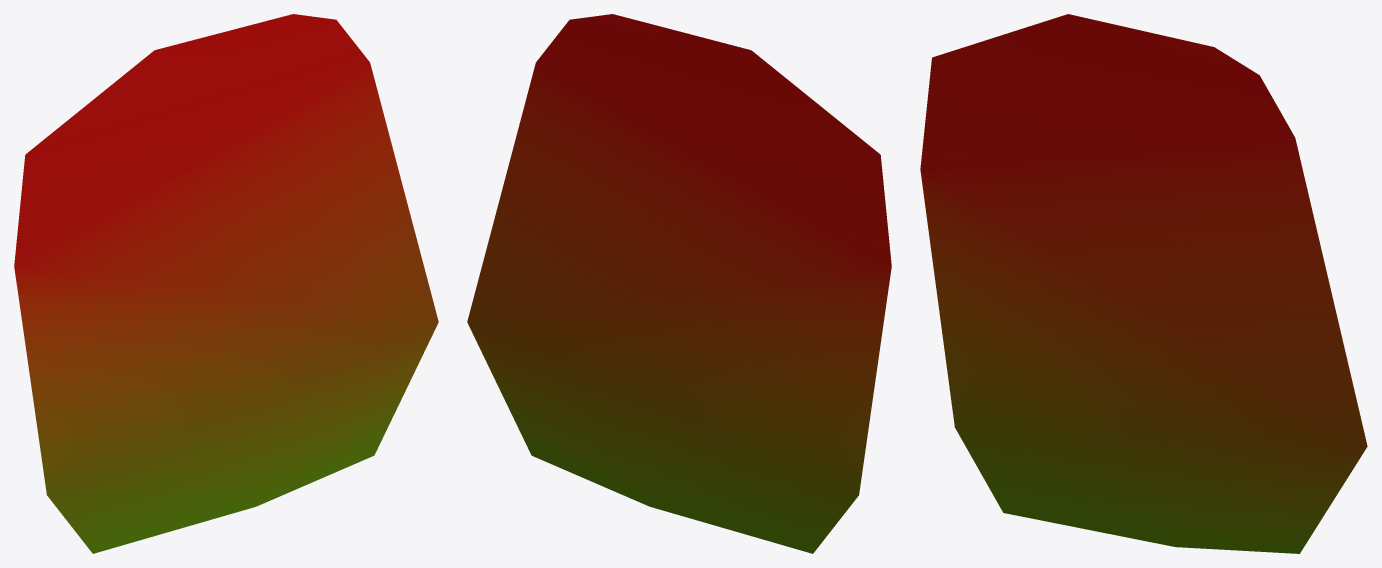
File: Var5_LOD7.fbx
3 renders of one model, left to right at view 1: azimuth 30°, elevation 25°; view 2: azimuth 150°, elevation 25°; view 3: azimuth 330°, elevation 25°, orthographic. The views are drawn at different scales.
Parts seen in each view (by area): view 1: _mb5d_Var5_LOD7; view 2: _mb5d_Var5_LOD7; view 3: _mb5d_Var5_LOD7.
Part boxes in pixels (<box>): _mb5d_Var5_LOD7: <box>14,14,438,553</box>; _mb5d_Var5_LOD7: <box>467,14,891,553</box>; _mb5d_Var5_LOD7: <box>920,14,1367,553</box>.
Bounding box in the file's own units: 27.9 × 30.83 × 5.15e-07.
